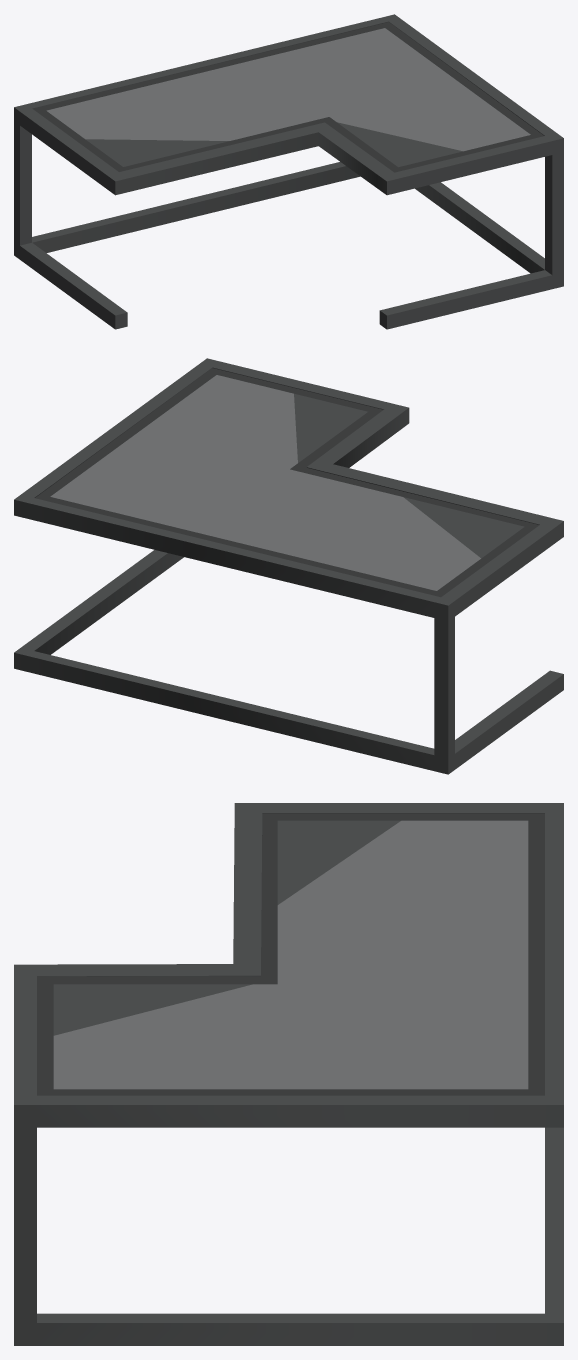
Rendered from Desk_018.fbx.
The picture shows the model from 3 angles, top to bottom: view 1: azimuth 30°, elevation 25°; view 2: azimuth 150°, elevation 25°; view 3: azimuth 270°, elevation 25°; orthographic projection. The views are drawn at different scales.
Parts seen in each view (by area): view 1: Desk_018; view 2: Desk_018; view 3: Desk_018.
Part boxes in pixels (left/top/right/bottom): Desk_018: left=14, top=14, right=563, bottom=329; Desk_018: left=14, top=358, right=563, bottom=774; Desk_018: left=14, top=803, right=563, bottom=1345.
Size of the model in its own units: 221 by 170 by 82.34.
